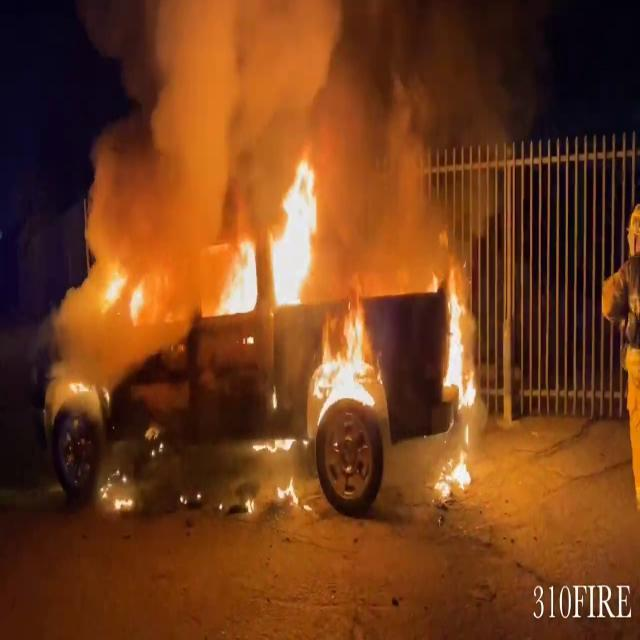Fire: (216, 152, 326, 317), (299, 301, 381, 431), (439, 266, 478, 414)
Smoke: (74, 1, 470, 251)
